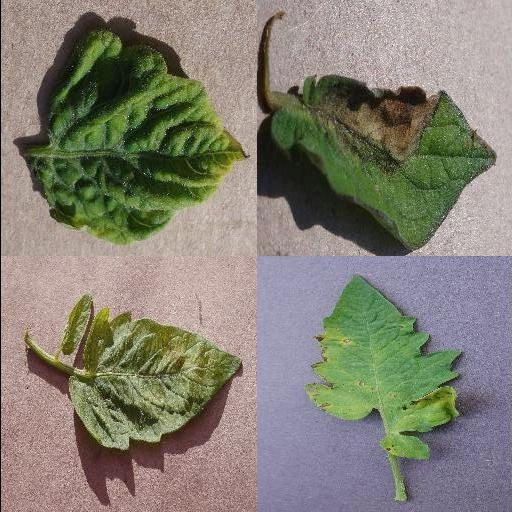Late Blight: (270, 76, 496, 254)
Septoria: (306, 273, 461, 461)
Spider Mites: (67, 308, 243, 448)
Yellow Leaf Curl Virus: (28, 29, 248, 245)
